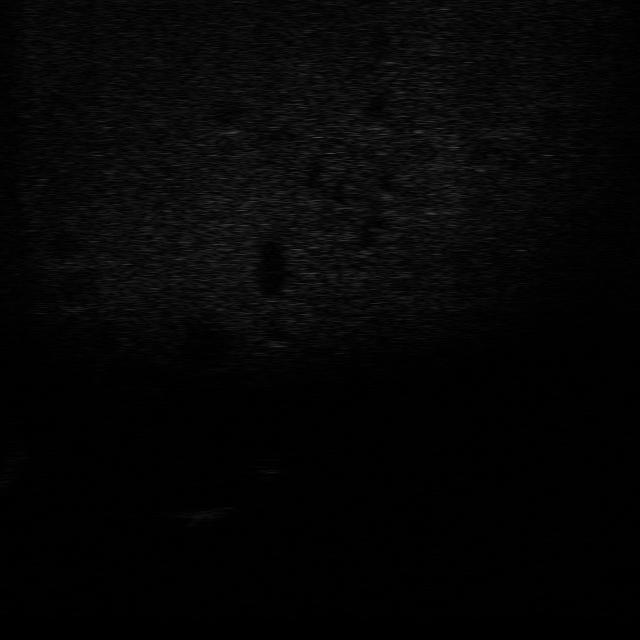ball: (244, 449, 292, 484)
square cage: (152, 500, 242, 533)
